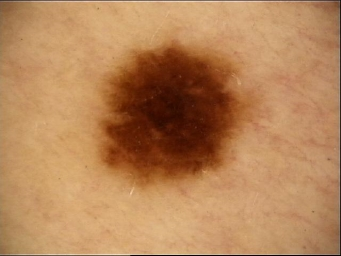nevus: (106, 47, 237, 184)
